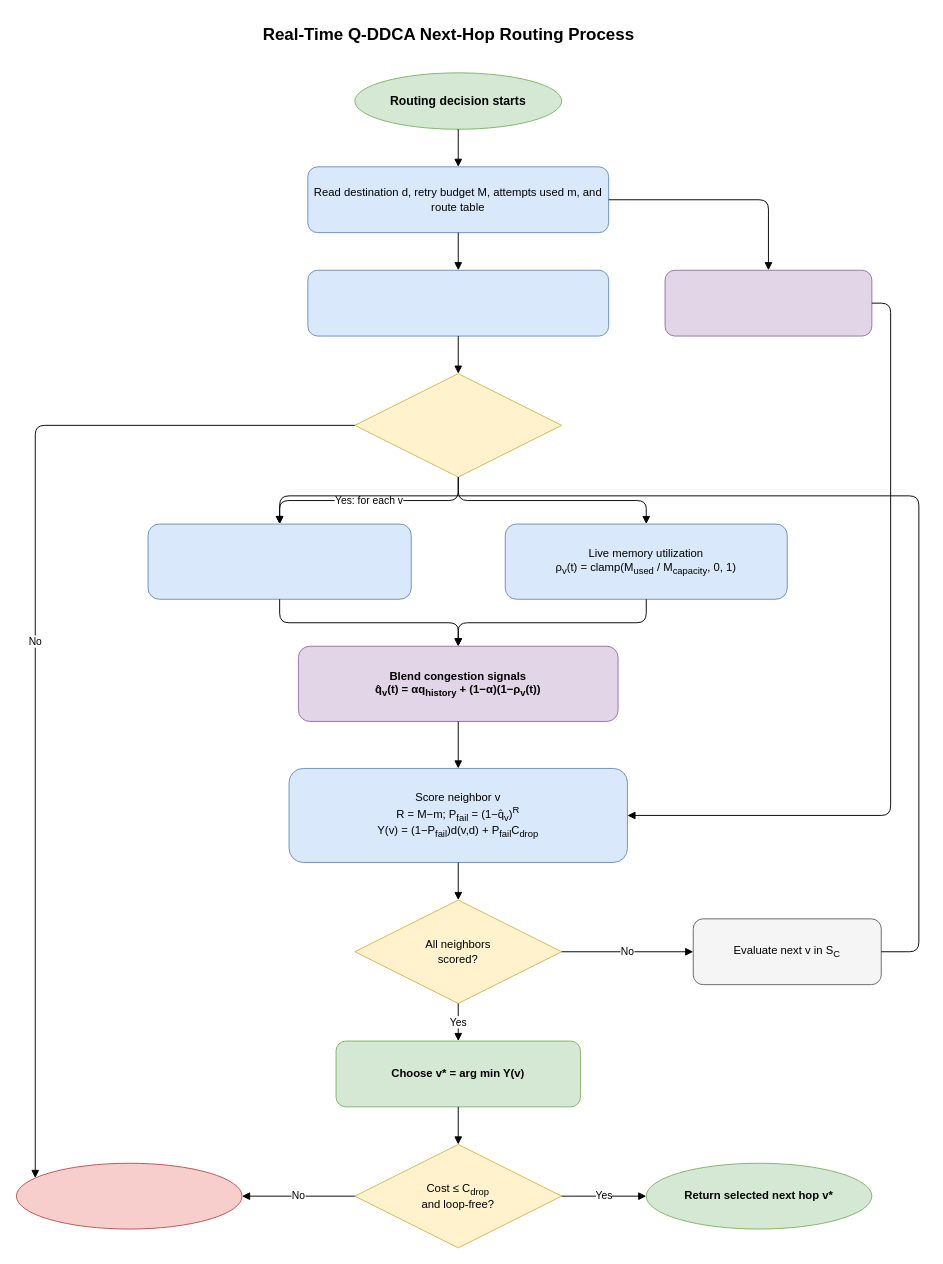
Image size: 943x1264. Some labels were removed from this diagram. Each missing label, with the centre of its shape:
"Any feasible neighbors?" belongs at point 458,425.
"Build feasible neighbor set S C Apply hop, fidelity, and loop constraints" belongs at point 458,302.
"Historical acceptance q history = (A v + ε) / (T v + ε)" belongs at point 279,561.
"Return no next hop Drop or retry pair" belongs at point 129,1195.
"Set drop penalty C drop = 2 d(s,d)" belongs at point 768,302.
